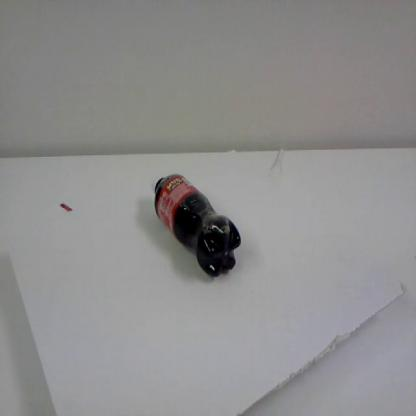bottle: (145, 172, 244, 281)
